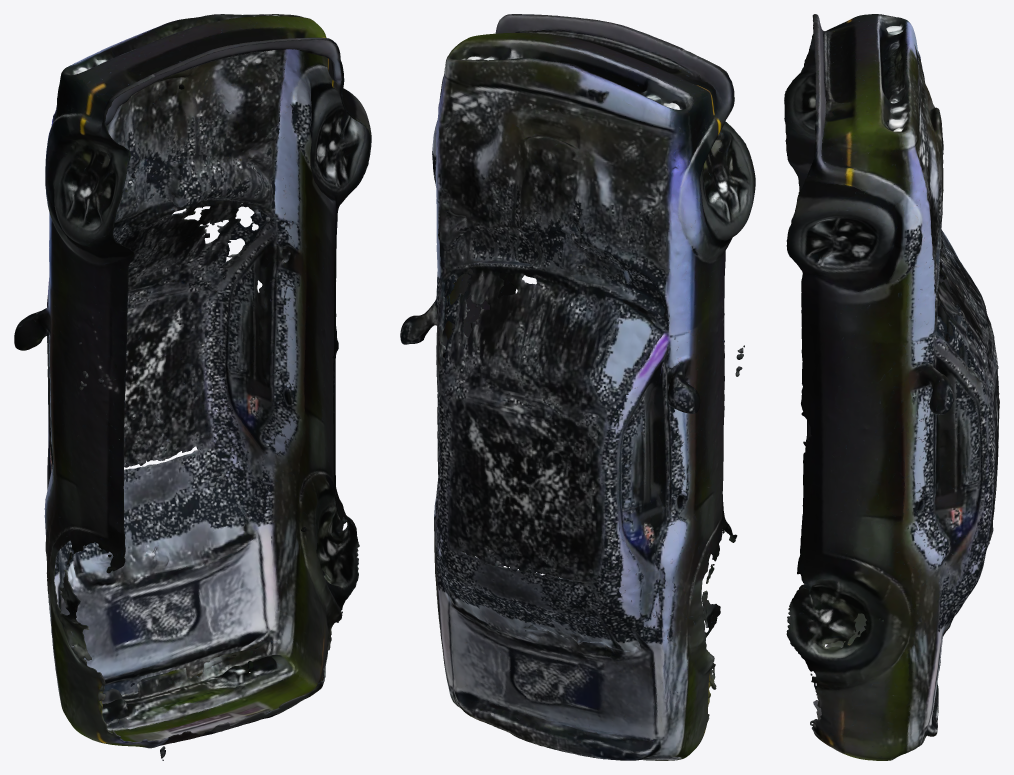
The model's file is bruiserNeo.glb.
The picture shows the model from 3 angles, left to right: view 1: azimuth 30°, elevation 25°; view 2: azimuth 150°, elevation 25°; view 3: azimuth 270°, elevation 25°; orthographic projection. The views are drawn at different scales.
Parts seen in each view (by area): view 1: body; view 2: body; view 3: body.
Part boxes in pixels (x1=…): body: x1=14, y1=14, x2=371, y2=760; body: x1=400, y1=14, x2=755, y2=760; body: x1=784, y1=14, x2=999, y2=760.
Bounding box in the file's own units: 0.5197 × 1.18 × 0.3386.
1 material, 1 textured.
